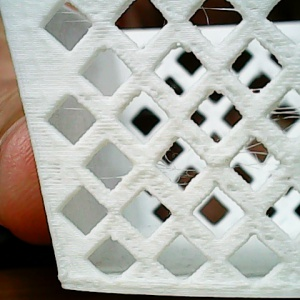3dpstringing: (159, 156, 202, 188), (195, 6, 250, 30), (84, 166, 136, 188), (233, 141, 270, 168), (271, 106, 300, 130), (55, 9, 91, 28), (59, 104, 95, 119), (247, 87, 268, 97)
